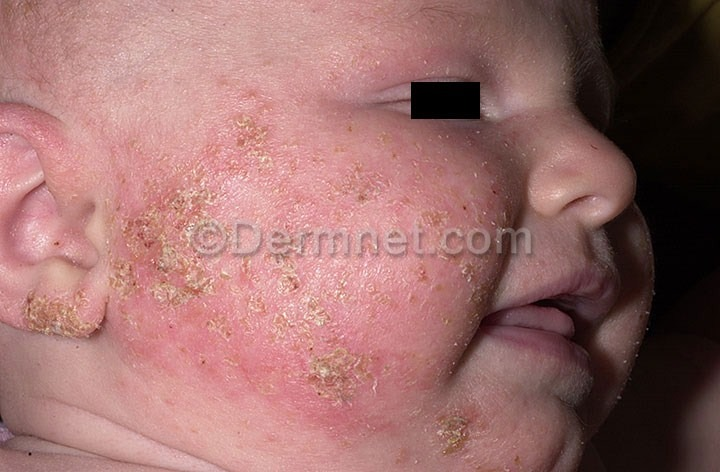Eczema: (94, 122, 523, 472), (8, 276, 95, 348), (208, 75, 293, 120)
